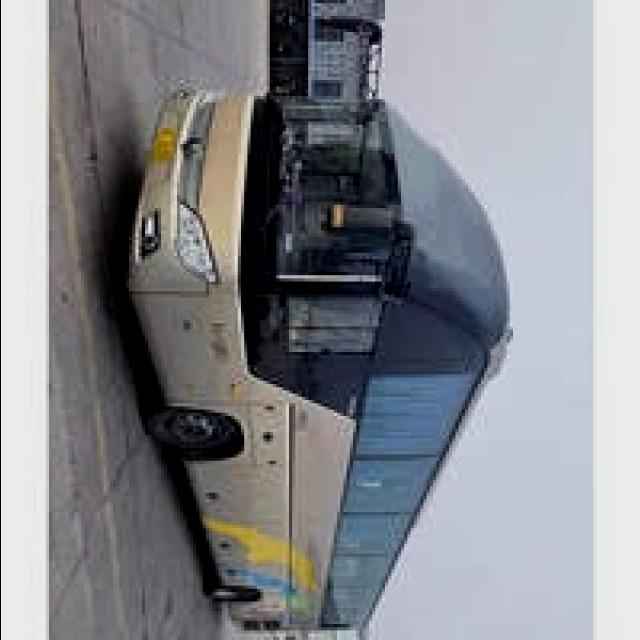bus: (109, 84, 530, 640)
